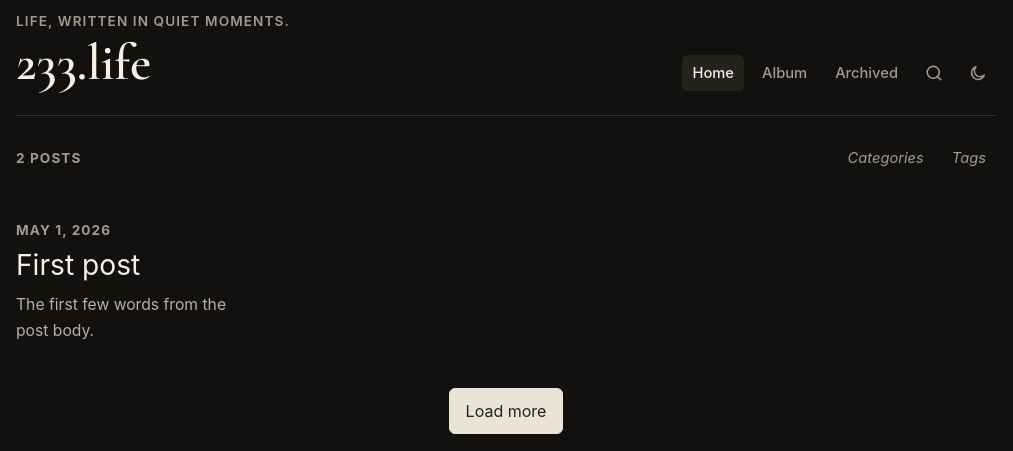
Test: home pagination › expands categories and filters posts by the selected category
This screenshot has width=1013, height=451.
Expected: the heading "First post" is shown, [16, 248, 140, 282]
Click the button "Categories".
click(886, 158)  # box [838, 140, 934, 176]
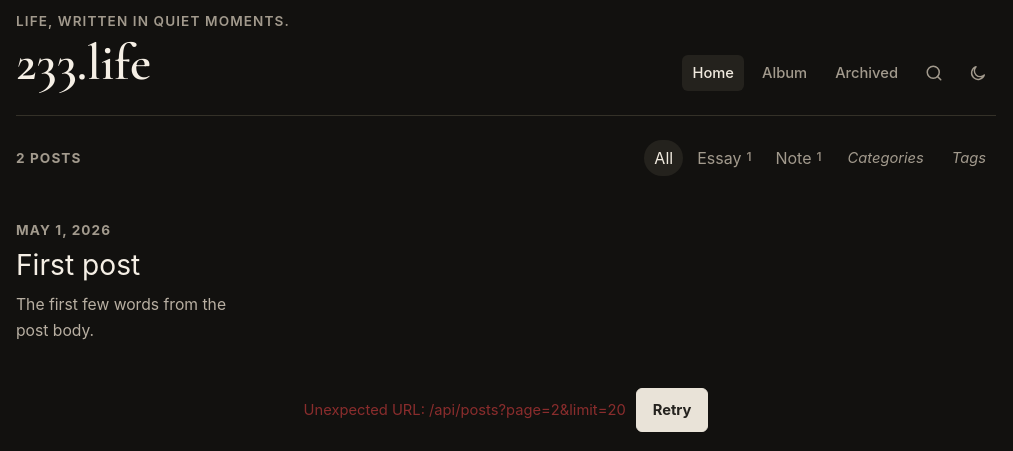
Now the button "Essay 1" is shown
Click the button "Essay 1".
click(724, 158)  # box [687, 140, 762, 176]
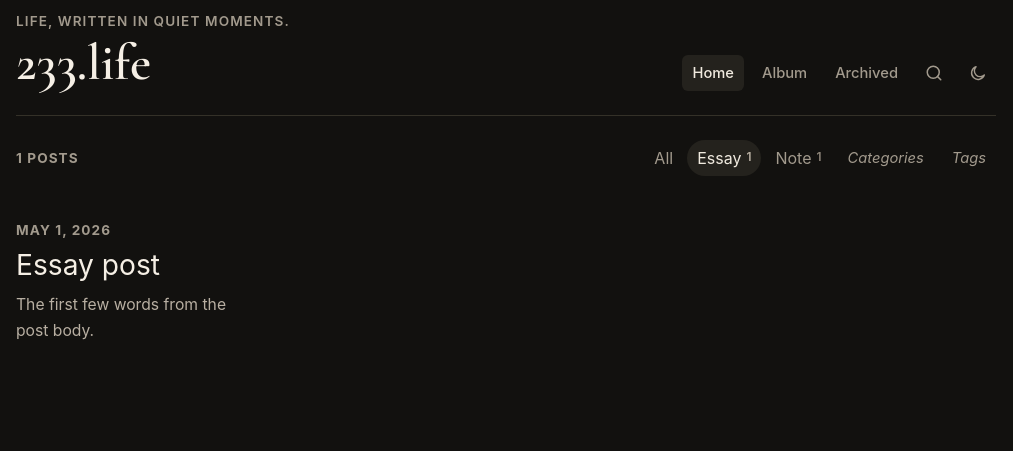
Now the heading "Essay post" is shown, box [16, 248, 160, 282]
